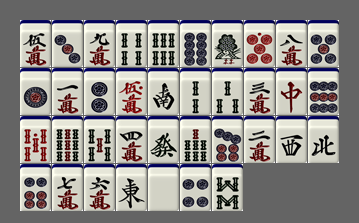0m: (116, 68, 147, 115)
0p: (244, 20, 275, 67)
0s: (20, 116, 51, 163)
1m: (52, 68, 83, 115)
1p: (20, 68, 51, 115)
1s: (212, 20, 243, 67)
1z: (116, 164, 147, 211)
2m: (244, 116, 275, 163)
2p: (84, 68, 115, 115)
2s: (180, 68, 211, 115)
2z: (148, 68, 179, 115)
3m: (244, 68, 275, 115)
3p: (52, 20, 83, 67)
3s: (212, 68, 243, 115)
3z: (276, 116, 307, 163)
4m: (116, 116, 147, 163)
4p: (180, 164, 211, 211)
4s: (116, 20, 147, 67)
4z: (308, 116, 339, 163)
5m: (20, 20, 51, 67)
5p: (308, 20, 339, 67)
5s: (84, 116, 115, 163)
5z: (148, 164, 179, 211)
6m: (84, 164, 115, 211)
6p: (20, 164, 51, 211)
6s: (148, 20, 179, 67)
6z: (148, 116, 179, 163)
7m: (52, 164, 83, 211)
7p: (212, 116, 243, 163)
7s: (180, 116, 211, 163)
7z: (276, 68, 307, 115)
8m: (276, 20, 307, 67)
8p: (180, 20, 211, 67)
8s: (212, 164, 243, 211)
9m: (84, 20, 115, 67)
9p: (308, 68, 339, 115)
9s: (52, 116, 83, 163)
